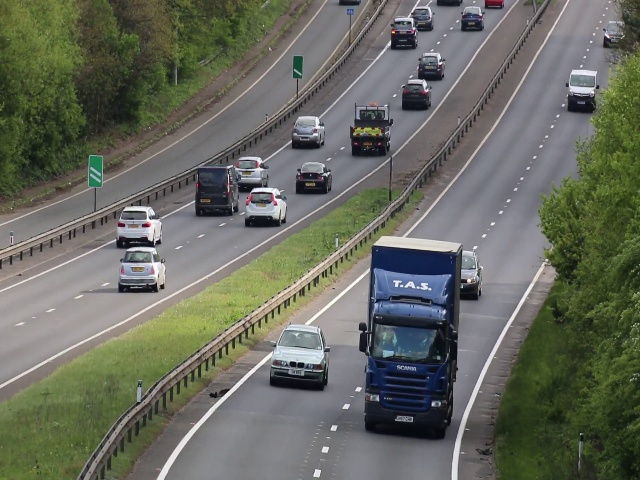car: (367, 287, 455, 443), (268, 323, 330, 392), (193, 165, 241, 217), (117, 247, 166, 294), (351, 104, 392, 154), (116, 205, 164, 246), (246, 186, 288, 228), (566, 68, 598, 113), (460, 248, 486, 300), (295, 161, 332, 195), (232, 155, 270, 188), (290, 114, 325, 149), (399, 79, 433, 111), (389, 17, 419, 50), (418, 52, 444, 80), (410, 5, 434, 31), (461, 7, 484, 30), (604, 19, 622, 45)
